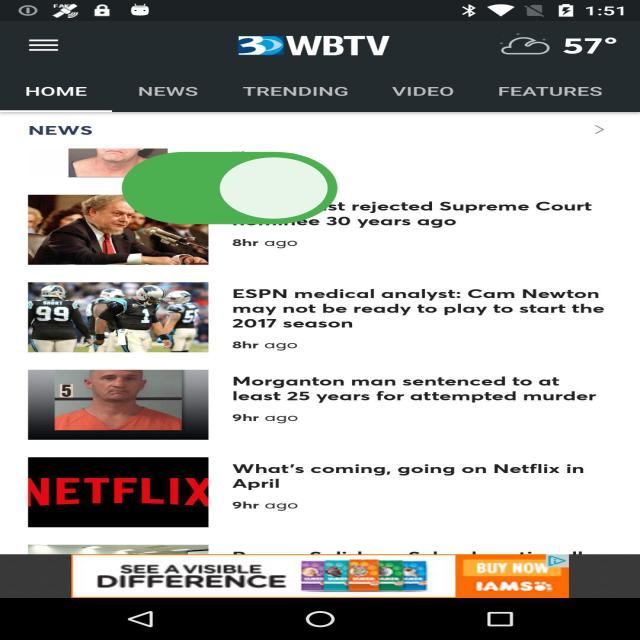social proof: (112, 124, 347, 258)
